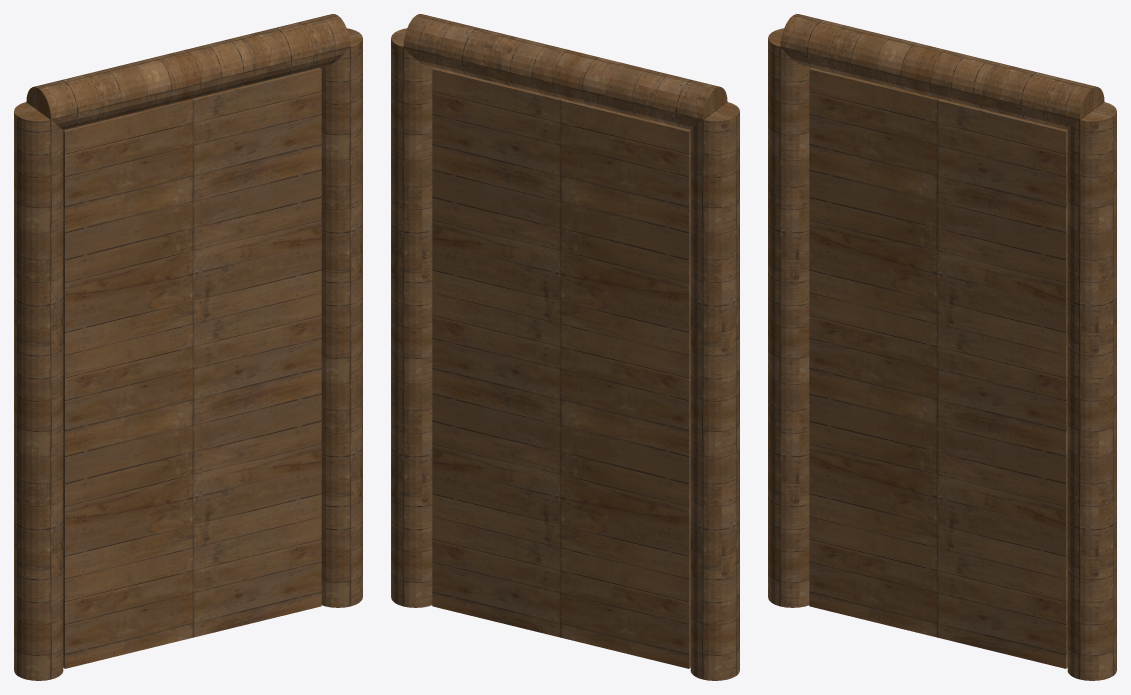
Rendered from porta_casa.glb.
The picture shows the model from 3 angles, left to right: view 1: azimuth 30°, elevation 25°; view 2: azimuth 150°, elevation 25°; view 3: azimuth 330°, elevation 25°; orthographic projection.
Visible parts, largest first — view 1: Folha da porta, Ombreira, Ombreira.001, Verga; view 2: Folha da porta, Ombreira, Ombreira.001, Verga; view 3: Folha da porta, Ombreira.001, Ombreira, Verga.
Boxes of the visible parts, x1=… form: Folha da porta: x1=63, y1=68, x2=321, y2=668; Ombreira: x1=14, y1=102, x2=63, y2=680; Ombreira.001: x1=320, y1=28, x2=362, y2=607; Verga: x1=26, y1=14, x2=350, y2=130; Folha da porta: x1=432, y1=68, x2=690, y2=668; Ombreira: x1=690, y1=102, x2=739, y2=680; Ombreira.001: x1=391, y1=28, x2=433, y2=607; Verga: x1=403, y1=14, x2=727, y2=130; Folha da porta: x1=809, y1=68, x2=1067, y2=668; Ombreira.001: x1=1067, y1=102, x2=1116, y2=680; Ombreira: x1=768, y1=28, x2=810, y2=607; Verga: x1=780, y1=14, x2=1104, y2=130.
Bounding box in the file's own units: 1.6 × 2.6 × 0.2.
1 material, 1 textured.
